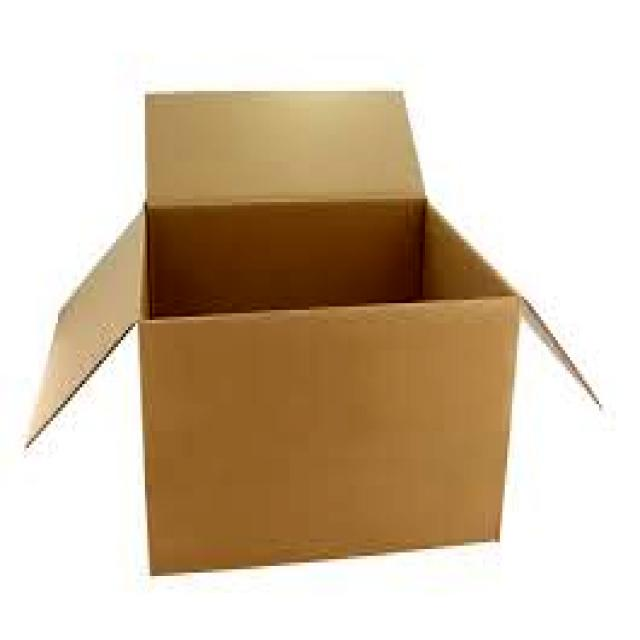Cardboard: (22, 78, 606, 580)
